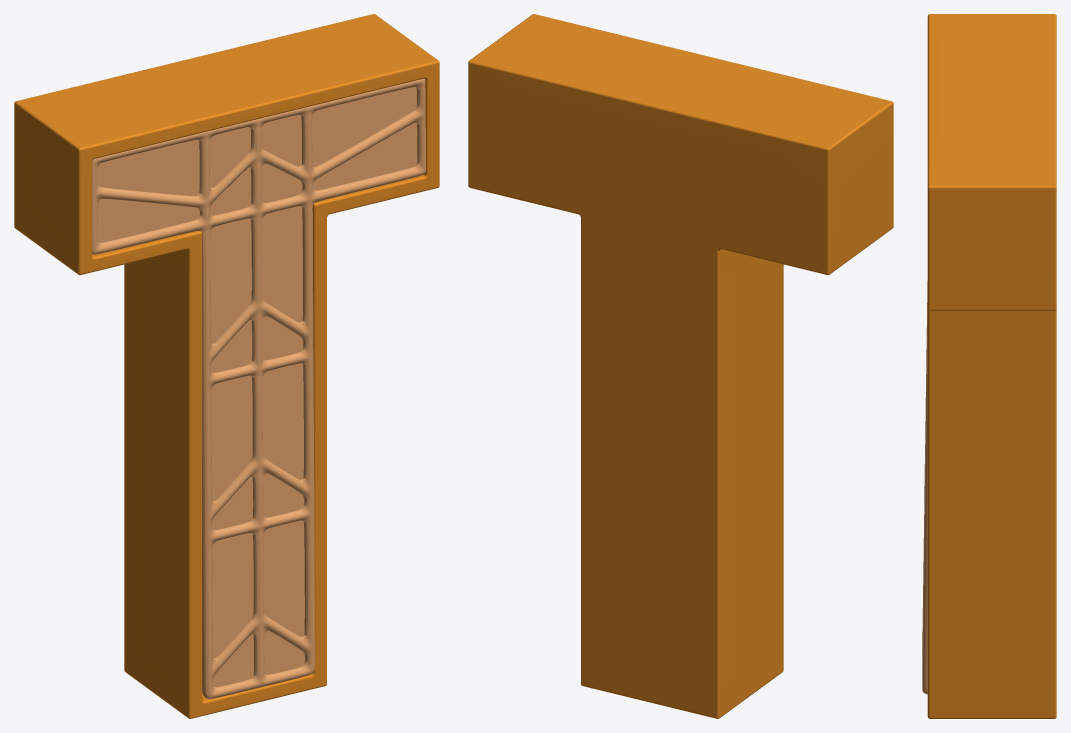
Rendered from T_nuevo.glb.
The picture shows the model from 3 angles, left to right: view 1: azimuth 30°, elevation 25°; view 2: azimuth 150°, elevation 25°; view 3: azimuth 270°, elevation 25°; orthographic projection.
Visible parts, largest first — view 1: Text.021, Plane.049, Plane.054; view 2: Text.021; view 3: Text.021, Plane.054.
Part boxes in pixels (x1,y1,x2,y2): Text.021: (14,14,439,718); Plane.049: (97,87,417,687); Plane.054: (92,78,425,698); Text.021: (468,14,893,718); Text.021: (927,14,1056,718); Plane.054: (922,281,927,694).
Size of the model in its own units: 2.99 by 4.73 by 0.9813.
